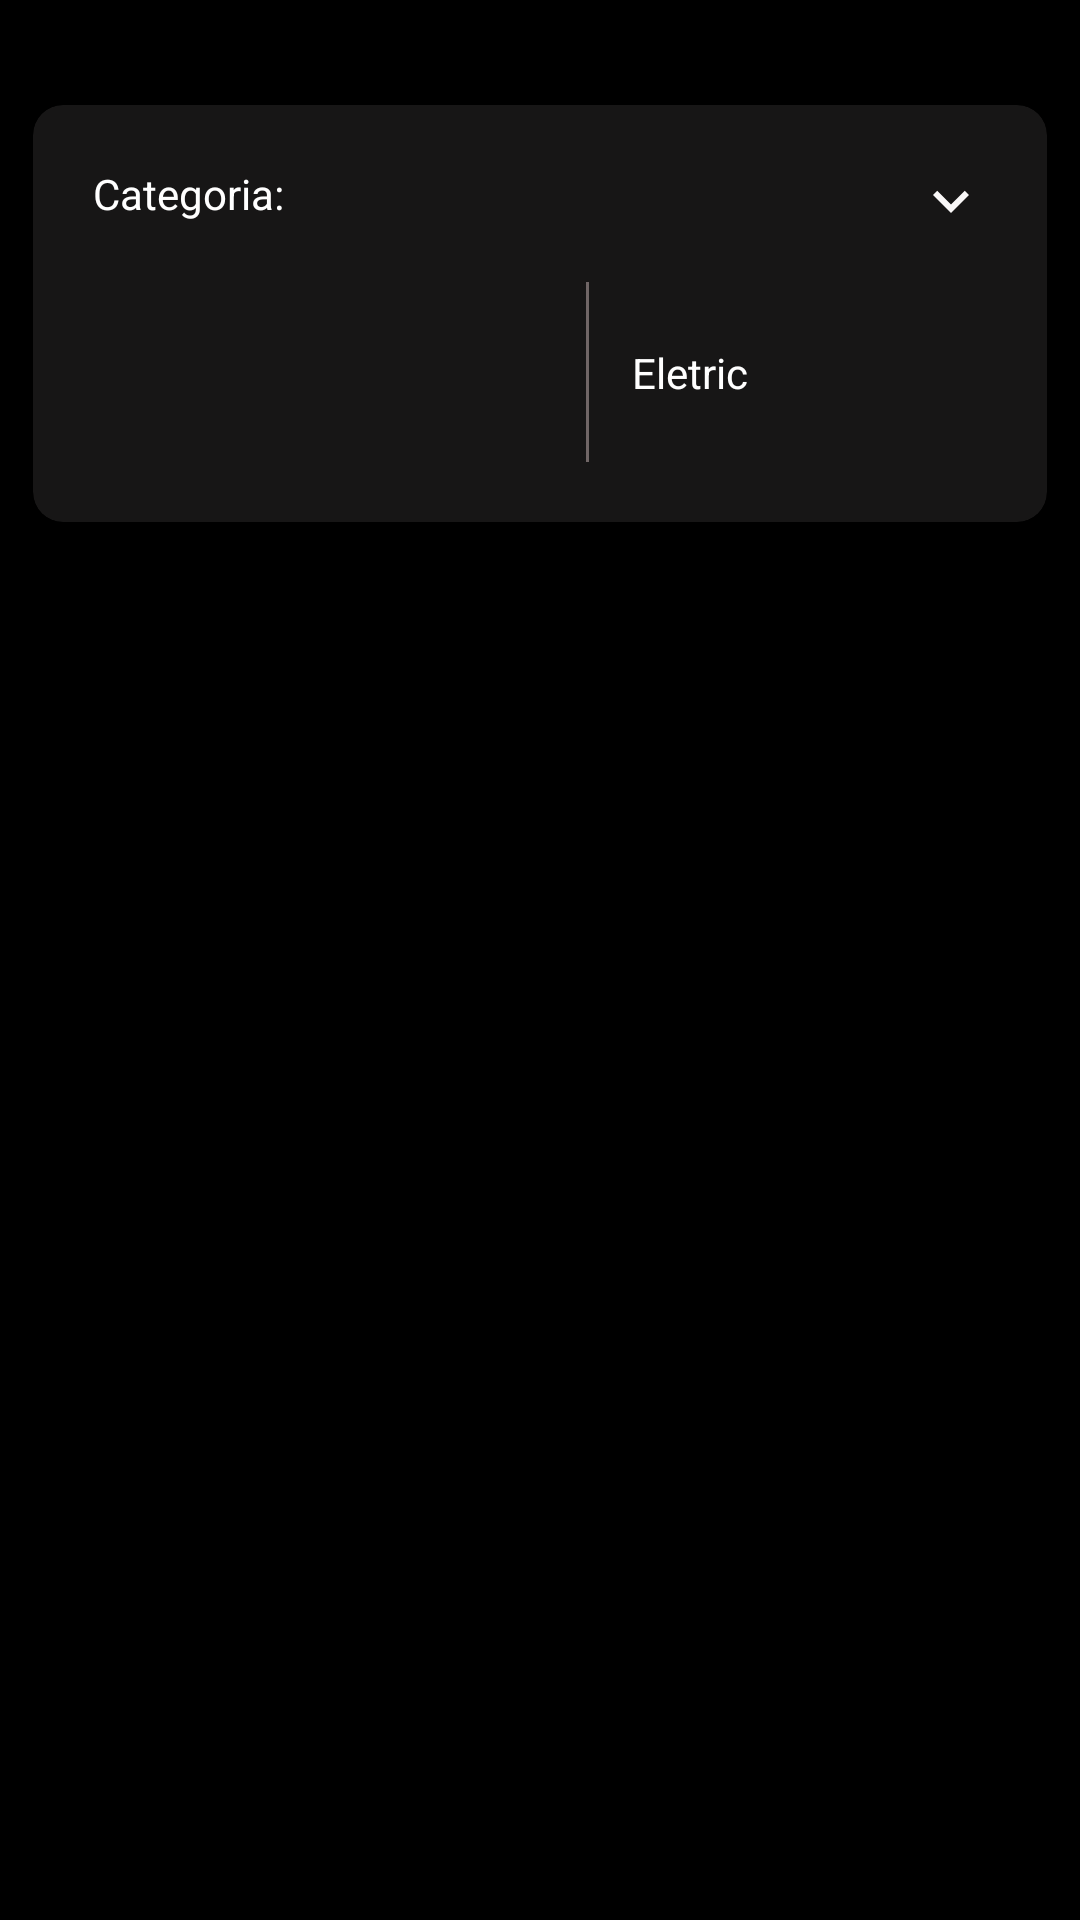

Named icons in this screenshot (1080*1920) and their centers, point (x, y):
expand more: point (951, 202)
